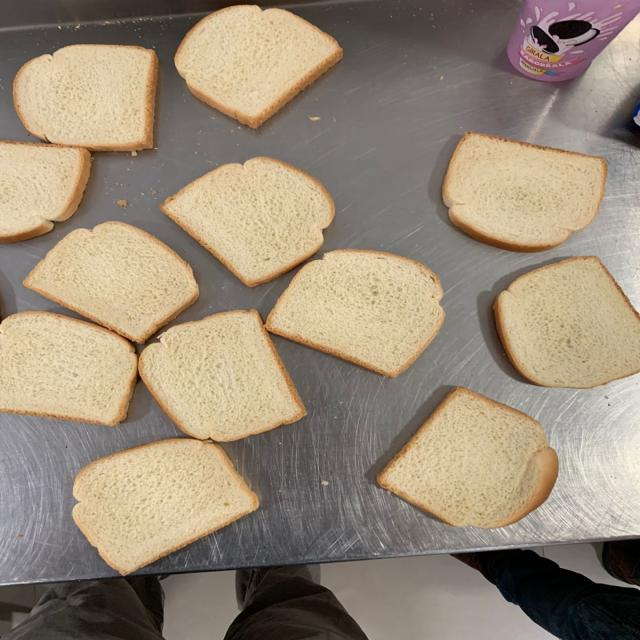sliced_bread: (377, 386, 559, 529), (72, 439, 259, 577), (264, 249, 447, 377), (160, 157, 336, 289), (137, 309, 308, 443), (23, 221, 200, 345), (172, 5, 342, 129), (441, 130, 609, 253), (493, 256, 640, 389), (11, 44, 160, 152)
